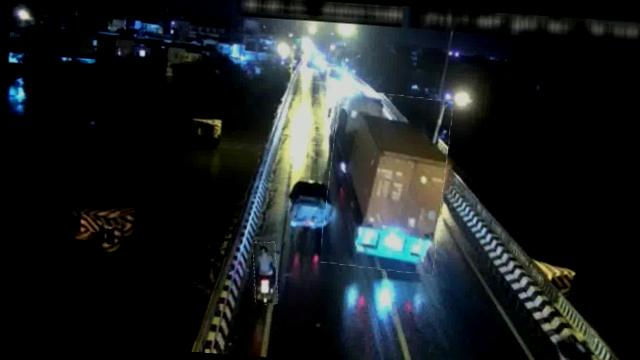Bike: (251, 240, 280, 304)
Truck: (321, 89, 451, 274)
